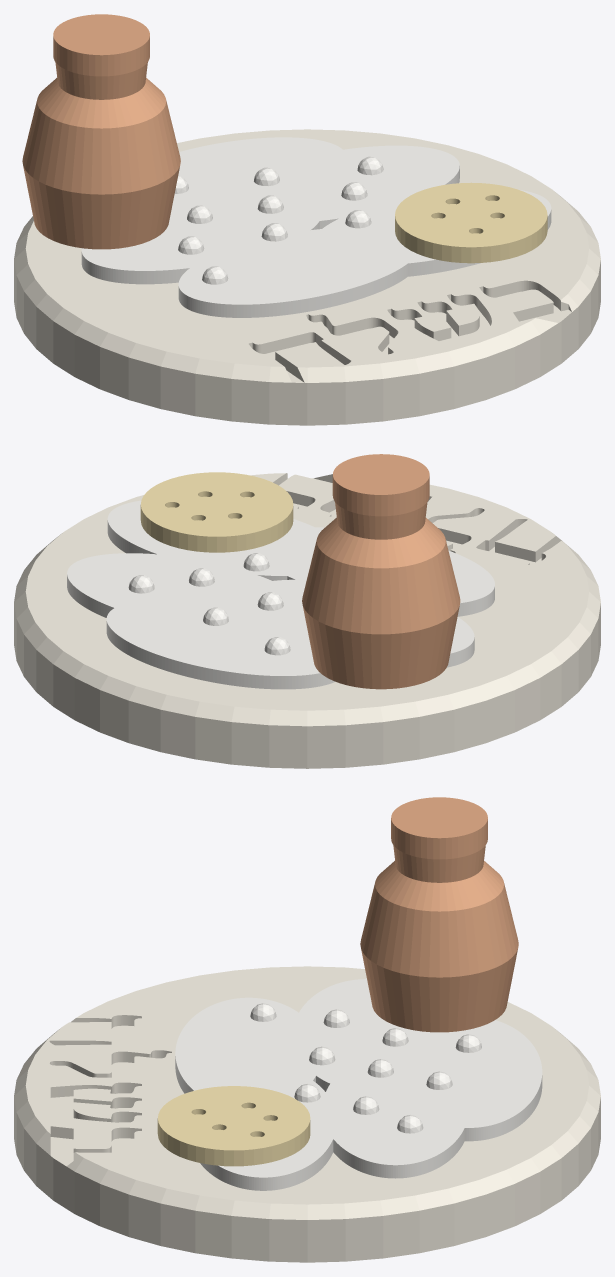
The model's file is beshalach.glb.
3 views of the same model, one above another, from view 1: azimuth 30°, elevation 25°; view 2: azimuth 150°, elevation 25°; view 3: azimuth 270°, elevation 25° (orthographic).
Parts seen in each view (by area): view 1: stage, dew, jar, wafer, lid; view 2: stage, dew, jar, wafer, lid; view 3: stage, dew, jar, wafer, lid.
Boxes of the visible parts, x1,y1,x2,y2 form: stage: (14, 129, 600, 425); dew: (81, 137, 551, 317); jar: (22, 62, 180, 249); wafer: (395, 182, 547, 263); lid: (53, 14, 149, 76); stage: (14, 473, 600, 768); dew: (67, 500, 494, 689); jar: (302, 502, 460, 689); wafer: (140, 472, 293, 552); lid: (332, 454, 429, 516); stage: (14, 966, 600, 1262); dew: (175, 979, 542, 1190); jar: (360, 845, 518, 1032); wafer: (157, 1086, 310, 1166); lid: (391, 797, 487, 859).
Size of the model in its own units: 40 by 19 by 40.
